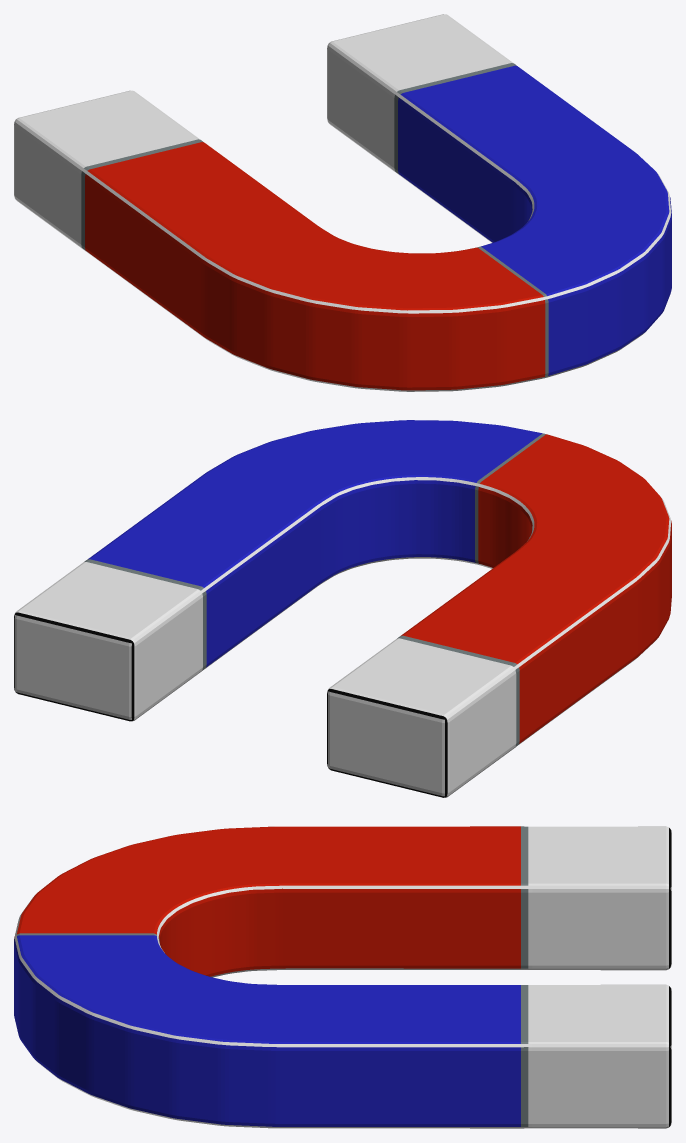
File: Magnet booster.fbx
3 renders of one model, top to bottom at view 1: azimuth 30°, elevation 25°; view 2: azimuth 150°, elevation 25°; view 3: azimuth 270°, elevation 25°, orthographic. The views are drawn at different scales.
Parts seen in each view (by area): view 1: Cylinder; view 2: Cylinder; view 3: Cylinder.
Part boxes in pixels (x1=…): Cylinder: x1=14, y1=14, x2=671, y2=391; Cylinder: x1=14, y1=420, x2=671, y2=797; Cylinder: x1=14, y1=826, x2=671, y2=1128.
Size of the model in its own units: 1 by 0.1832 by 1.26.
